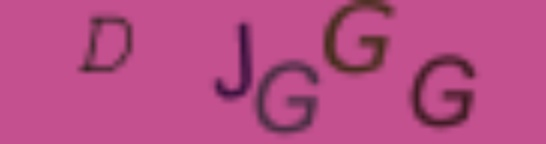D: (77, 13, 139, 75)
G: (321, 1, 398, 75), (408, 51, 477, 132), (253, 57, 319, 134)
J: (207, 18, 256, 100)
